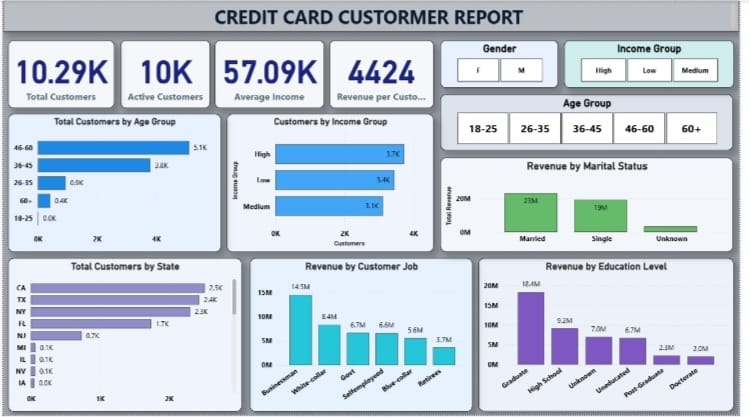

The dashboard page shown, as its layout file describes it:
{"tool":"powerbi","page":{"name":"Credit Card Customer","canvas":[1280,720],"ordinal":0},"visuals":[{"type":"textbox","box":[0,0,1280,53.5],"z":0},{"type":"card","fields":{"Values":["CreditCard.Active Customers"]},"box":[203.9,68.8,155.8,118.2],"z":1000},{"type":"card","fields":{"Values":["CountNonNull(customer.CustomerID)"]},"box":[9.1,68.8,184.4,118.2],"z":2000},{"type":"card","fields":{"Values":["Avg(customer.Income)"]},"box":[368.6,68.6,190,118.6],"z":3000},{"type":"card","fields":{"Values":["customer.Revenue per customer"]},"box":[567.1,68.6,181.4,118.6],"z":4000},{"type":"slicer","title":"Gender","fields":{"Values":["customer.Gender"]},"box":[761,68.8,205.2,83.1],"z":5000},{"type":"slicer","title":"Age Group","fields":{"Values":["customer.Age_Group"]},"box":[761,162.3,509.1,97.4],"z":6000},{"type":"slicer","title":"Income Group","fields":{"Values":["customer.Income_Group"]},"box":[975.3,68.8,294.8,83.1],"z":7000},{"type":"clusteredBarChart","title":"Customers by Income Group","fields":{"Y":["CountNonNull(customer.CustomerID)"],"Category":["customer.Income_Group"]},"box":[388.6,197.1,360,240],"z":8000},{"type":"clusteredBarChart","title":"Total Customers by Age Group","fields":{"Y":["CountNonNull(customer.CustomerID)"],"Category":["customer.Age_Group"]},"box":[8.6,197.1,370,240],"z":9000},{"type":"columnChart","title":"Revenue by Education Level","fields":{"Category":["customer.Education_Level"],"Y":["CreditCard.Total Revenue"]},"box":[826.2,447.5,443.8,266.2],"z":10000},{"type":"clusteredColumnChart","title":"Revenue by Customer Job","fields":{"Category":["customer.Customer_Job"],"Y":["CreditCard.Total Revenue"]},"box":[428.8,447.5,387.5,267.5],"z":11000},{"type":"columnChart","title":"Revenue by Marital Status","fields":{"Category":["customer.Marital_Status"],"Y":["CreditCard.Total Revenue"]},"box":[761,272.7,509.1,163.6],"z":12000},{"type":"clusteredBarChart","title":"Total Customers by State","fields":{"Category":["customer.state_cd"],"Y":["CountNonNull(customer.CustomerID)"]},"box":[8.8,447.5,406.2,267.5],"z":13000}]}

Visuals, with their boxes in screenshot pixels (x1, y1, x2, y2), scaled from the page's 1280x720 canvas onto the 749x417 screenshot:
textbox: bbox(0, 0, 748, 31)
card - CreditCard.Active Customers: bbox(119, 40, 210, 108)
card - CountNonNull(customer.CustomerID): bbox(5, 40, 113, 108)
card - Avg(customer.Income): bbox(216, 40, 327, 108)
card - customer.Revenue per customer: bbox(332, 40, 438, 108)
"Gender" slicer: bbox(445, 40, 565, 88)
"Age Group" slicer: bbox(445, 94, 743, 150)
"Income Group" slicer: bbox(571, 40, 743, 88)
"Customers by Income Group" clusteredBarChart: bbox(227, 114, 438, 253)
"Total Customers by Age Group" clusteredBarChart: bbox(5, 114, 222, 253)
"Revenue by Education Level" columnChart: bbox(483, 259, 743, 413)
"Revenue by Customer Job" clusteredColumnChart: bbox(251, 259, 478, 414)
"Revenue by Marital Status" columnChart: bbox(445, 158, 743, 253)
"Total Customers by State" clusteredBarChart: bbox(5, 259, 243, 414)
